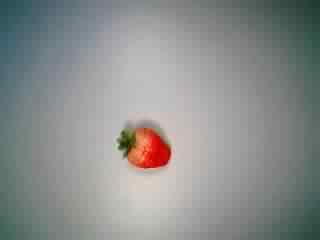strawberry: (111, 113, 177, 175)
